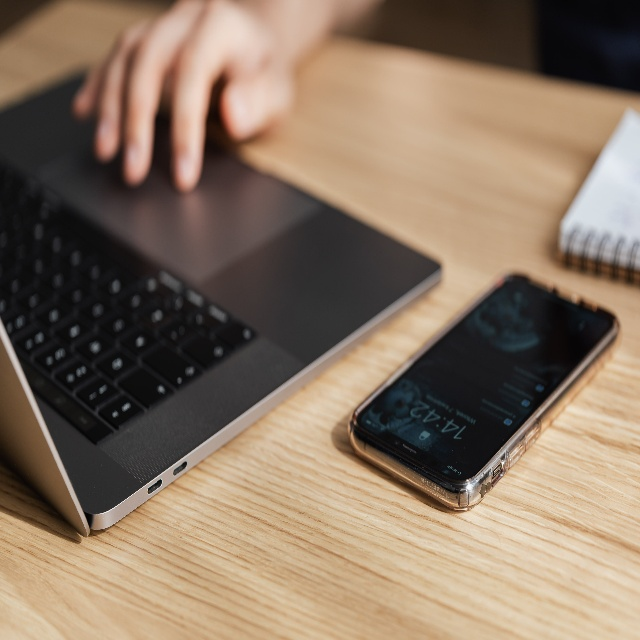Sin_guantes: (70, 0, 292, 196)
